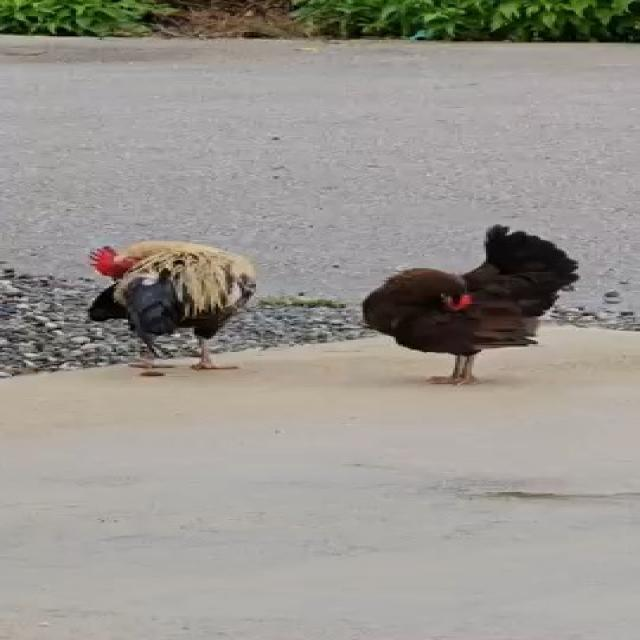self preening: (362, 223, 583, 385), (85, 238, 258, 370)
